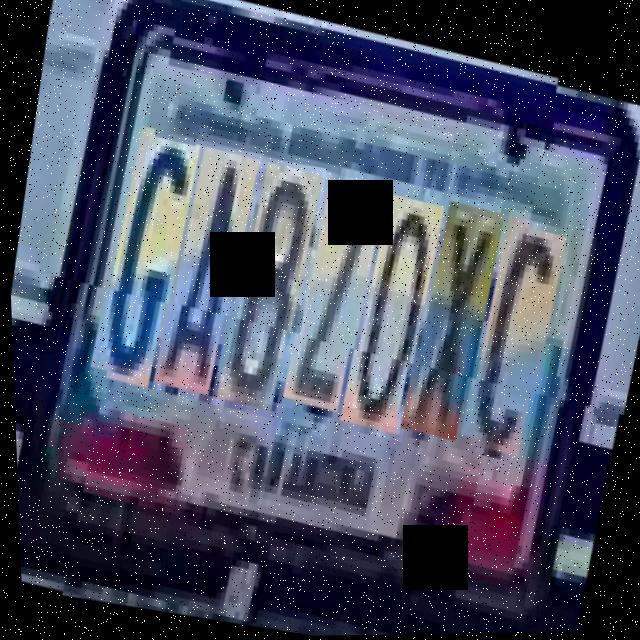8: (215, 158, 332, 411)
A: (152, 144, 268, 397)
C: (460, 206, 576, 446)
G: (87, 129, 209, 390)
O: (339, 186, 453, 432)
X: (400, 193, 513, 438)
Z: (281, 173, 394, 410)
